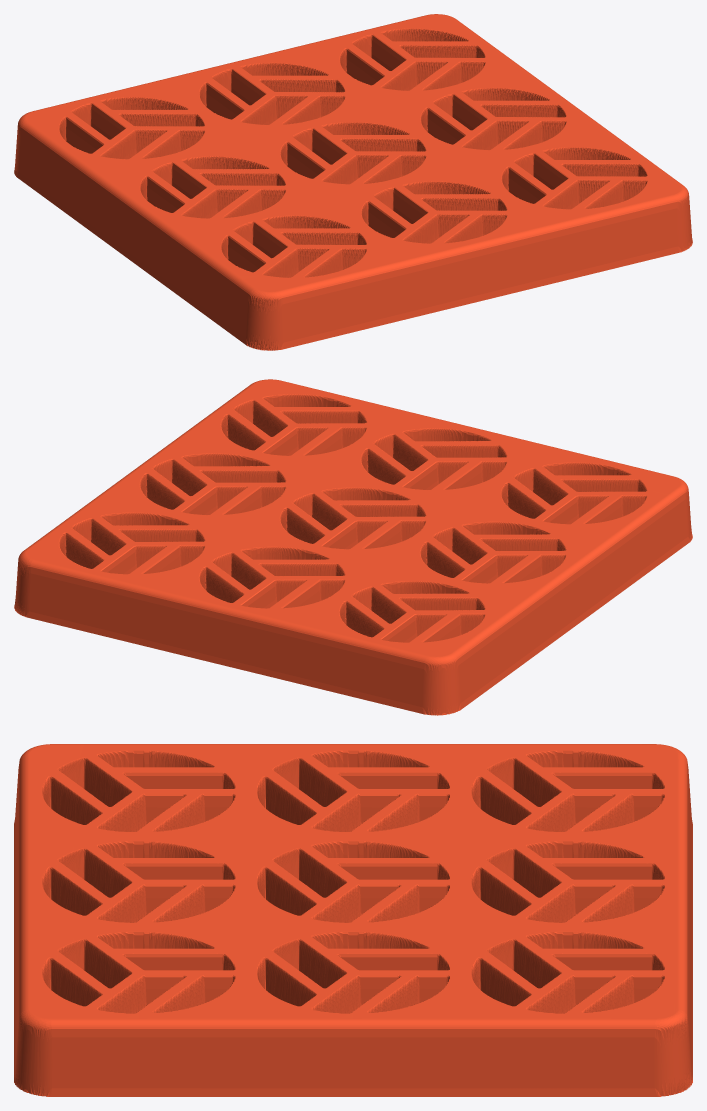
The model's file is mold.glb.
The picture shows the model from 3 angles, top to bottom: view 1: azimuth 30°, elevation 25°; view 2: azimuth 150°, elevation 25°; view 3: azimuth 270°, elevation 25°; orthographic projection. The views are drawn at different scales.
Visible parts, largest first — view 1: geometry_0; view 2: geometry_0; view 3: geometry_0.
Part boxes in pixels (x1,y1,x2,y2): geometry_0: (14, 14, 692, 350); geometry_0: (14, 379, 692, 715); geometry_0: (14, 744, 692, 1096).
Size of the model in its own units: 0.1595 by 0.0185 by 0.1595.
